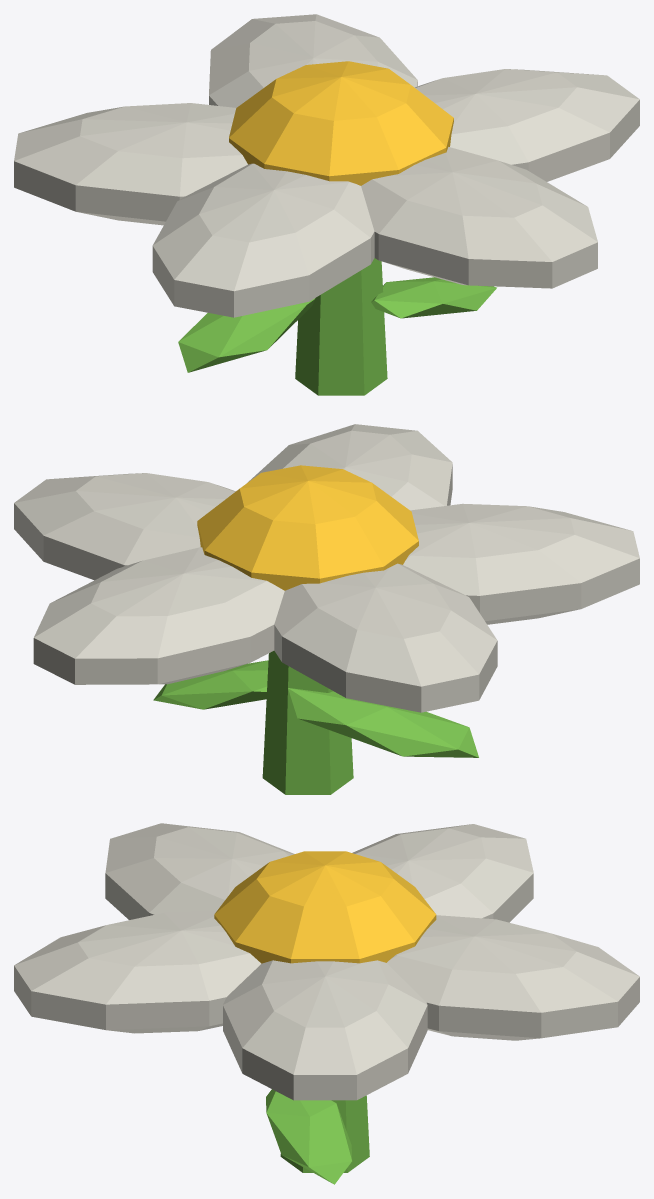
Rendered from daisy-patch.glb.
3 renders of one model, top to bottom at view 1: azimuth 30°, elevation 25°; view 2: azimuth 150°, elevation 25°; view 3: azimuth 270°, elevation 25°, orthographic. The views are drawn at different scales.
Visible parts, largest first — view 1: White daisy petal 4, White daisy petal 5, White daisy petal 3, White daisy center, White daisy petal 1, White daisy petal 2, Daisy stem, Daisy leaf left, Daisy leaf right; view 2: White daisy petal 2, White daisy petal 3, White daisy petal 4, White daisy center, White daisy petal 1, White daisy petal 5, Daisy stem, Daisy leaf left, Daisy leaf right; view 3: White daisy petal 1, White daisy petal 2, White daisy petal 5, White daisy center, White daisy petal 4, White daisy petal 3, Daisy leaf right, Daisy stem.
Part boxes in pixels (x1,y1,x2,y2): White daisy petal 4: [152, 163, 374, 317]; White daisy petal 5: [361, 147, 597, 288]; White daisy petal 3: [14, 103, 247, 225]; White daisy center: [229, 61, 453, 185]; White daisy petal 1: [415, 69, 639, 181]; White daisy petal 2: [209, 14, 417, 107]; Daisy stem: [295, 258, 387, 395]; Daisy leaf left: [178, 298, 315, 372]; Daisy leaf right: [371, 277, 496, 318]; White daisy petal 2: [33, 547, 284, 684]; White daisy petal 3: [274, 563, 497, 712]; White daisy petal 4: [403, 503, 639, 624]; White daisy center: [197, 465, 418, 590]; White daisy petal 1: [14, 473, 235, 580]; White daisy petal 5: [247, 424, 452, 510]; Daisy stem: [262, 651, 353, 794]; Daisy leaf left: [288, 688, 478, 757]; Daisy leaf right: [153, 660, 268, 709]; White daisy petal 1: [223, 960, 427, 1100]; White daisy petal 2: [387, 915, 639, 1040]; White daisy petal 5: [14, 911, 261, 1033]; White daisy center: [214, 851, 436, 963]; White daisy petal 4: [105, 823, 294, 919]; White daisy petal 3: [352, 824, 533, 922]; Daisy leaf right: [266, 1089, 352, 1184]; Daisy stem: [280, 1095, 369, 1172].
Size of the model in its own units: 0.2938 by 0.1586 by 0.3088.
